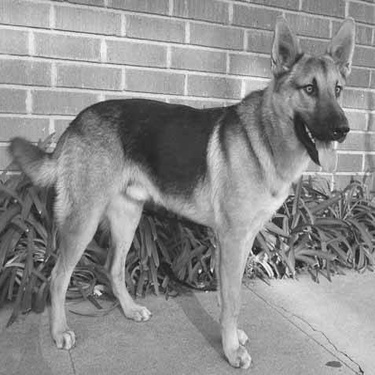dog: (11, 8, 363, 373)
